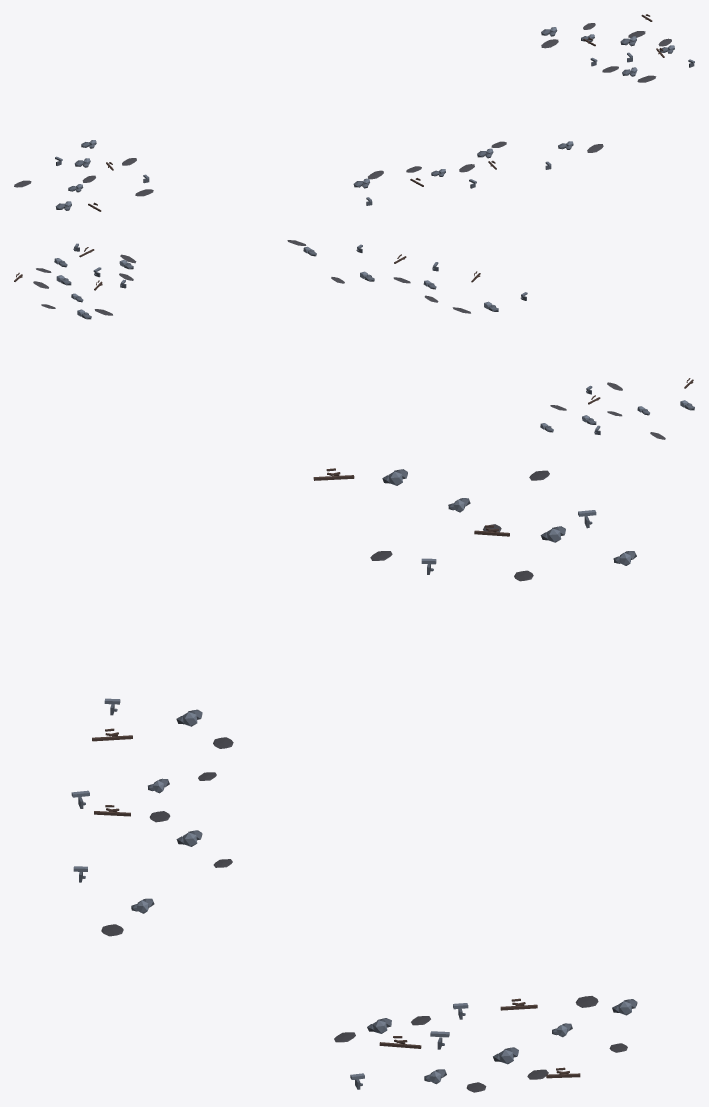
Rendered from exterior_wilderness_dressing_v1.glb.
3 views of the same model, one above another, from view 1: azimuth 30°, elevation 25°; view 2: azimuth 150°, elevation 25°; view 3: azimuth 270°, elevation 25° (orthographic). The views are drawn at different scales.
Size of the model in its own units: 93.68 by 2.19 by 35.74.
